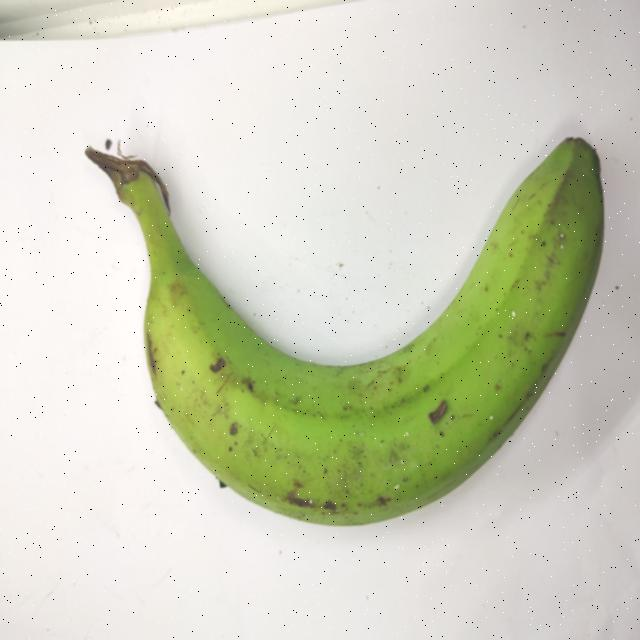Raw: (80, 90, 630, 538)
